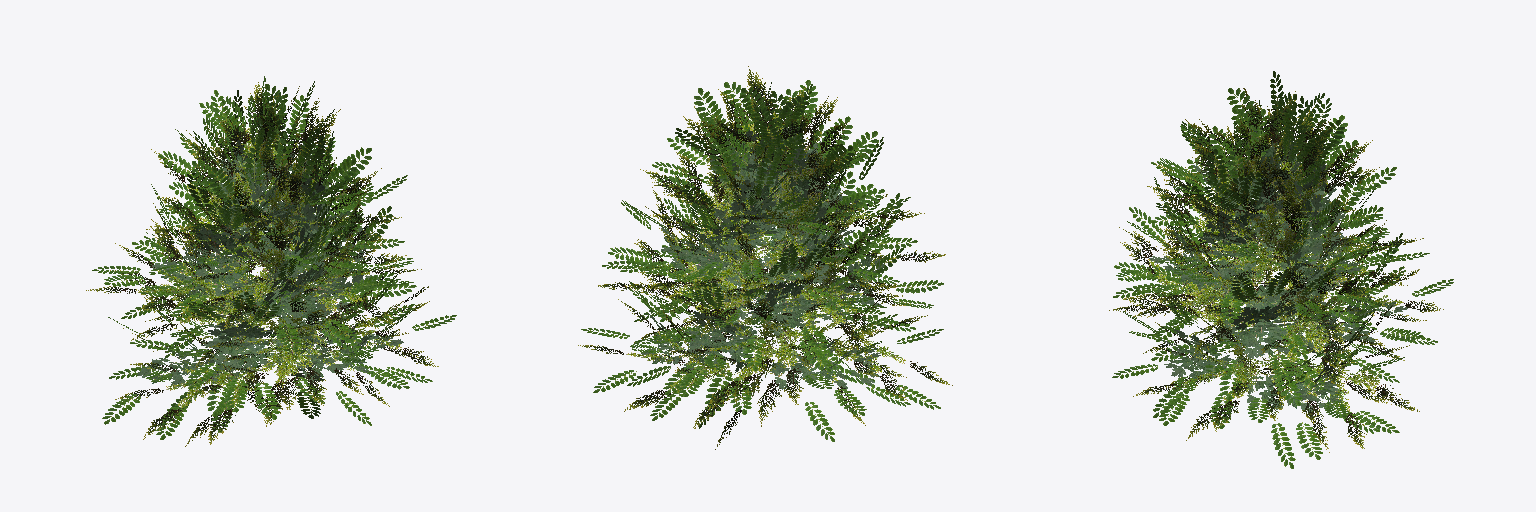
The picture shows the model from 3 angles: view 1: azimuth 30°, elevation 25°; view 2: azimuth 150°, elevation 25°; view 3: azimuth 270°, elevation 25°; orthographic projection.
Visible parts, largest first — view 1: leaves; view 2: leaves; view 3: leaves.
Boxes of the visible parts, <box> form: leaves: <box>86,76,456,446</box>; leaves: <box>578,66,952,449</box>; leaves: <box>1109,71,1453,468</box>.
Bounding box in the file's own units: 18.38 × 19.15 × 17.79.
Materials: 1 (1 with a texture image).